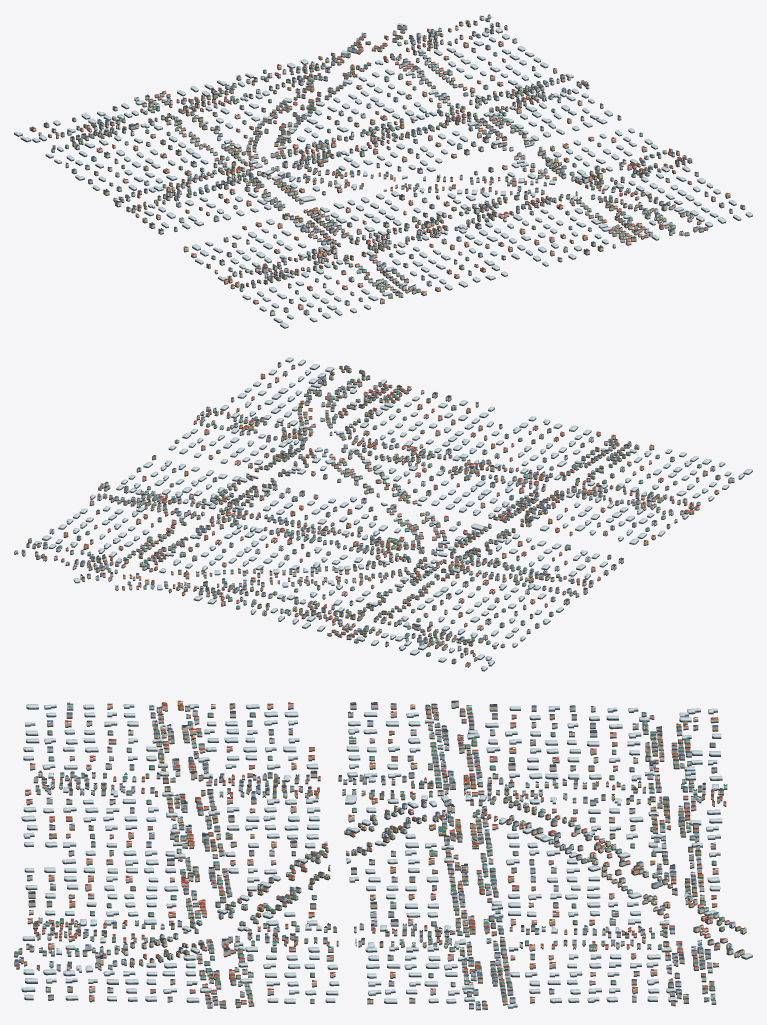
The model's file is osm_buildings_T_E03_N02.glb.
The picture shows the model from 3 angles, top to bottom: view 1: azimuth 30°, elevation 25°; view 2: azimuth 150°, elevation 25°; view 3: azimuth 270°, elevation 25°; orthographic projection. The views are drawn at different scales.
Parts seen in each view (by area): view 1: OSM_T_E03_N02_foundation, OSM_T_E03_N02_greenhouse_blend, OSM_T_E03_N02_wall_french_ochre, OSM_T_E03_N02_wall_cream_stucco, OSM_T_E03_N02_wall_warm_white, OSM_T_E03_N02_wall_pastel_sand, OSM_T_E03_N02_roof_terracotta, OSM_T_E03_N02_roof_mansard_slate, OSM_T_E03_N02_roof_alpine_blue, OSM_T_E03_N02_roof_mint_metal; view 2: OSM_T_E03_N02_foundation, OSM_T_E03_N02_greenhouse_blend, OSM_T_E03_N02_wall_french_ochre, OSM_T_E03_N02_wall_cream_stucco, OSM_T_E03_N02_wall_warm_white, OSM_T_E03_N02_wall_pastel_sand, OSM_T_E03_N02_roof_terracotta, OSM_T_E03_N02_roof_mansard_slate, OSM_T_E03_N02_roof_alpine_blue, OSM_T_E03_N02_roof_mint_metal; view 3: OSM_T_E03_N02_foundation, OSM_T_E03_N02_greenhouse_blend, OSM_T_E03_N02_wall_french_ochre, OSM_T_E03_N02_wall_cream_stucco, OSM_T_E03_N02_wall_warm_white, OSM_T_E03_N02_wall_pastel_sand, OSM_T_E03_N02_roof_terracotta, OSM_T_E03_N02_roof_mansard_slate, OSM_T_E03_N02_roof_alpine_blue, OSM_T_E03_N02_roof_mint_metal, OSM_T_E03_N02_glass_blend_85.
Part boxes in pixels (x1=…): OSM_T_E03_N02_foundation: x1=14, y1=17, x2=752, y2=328; OSM_T_E03_N02_greenhouse_blend: x1=14, y1=23, x2=752, y2=327; OSM_T_E03_N02_wall_french_ochre: x1=43, y1=21, x2=730, y2=311; OSM_T_E03_N02_wall_cream_stucco: x1=29, y1=15, x2=732, y2=309; OSM_T_E03_N02_wall_warm_white: x1=55, y1=16, x2=708, y2=315; OSM_T_E03_N02_wall_pastel_sand: x1=51, y1=18, x2=745, y2=314; OSM_T_E03_N02_roof_terracotta: x1=30, y1=22, x2=729, y2=306; OSM_T_E03_N02_roof_mansard_slate: x1=52, y1=20, x2=744, y2=300; OSM_T_E03_N02_roof_alpine_blue: x1=44, y1=15, x2=723, y2=311; OSM_T_E03_N02_roof_mint_metal: x1=51, y1=14, x2=688, y2=312; OSM_T_E03_N02_foundation: x1=14, y1=359, x2=752, y2=671; OSM_T_E03_N02_greenhouse_blend: x1=33, y1=357, x2=752, y2=670; OSM_T_E03_N02_wall_french_ochre: x1=28, y1=366, x2=720, y2=663; OSM_T_E03_N02_wall_cream_stucco: x1=14, y1=365, x2=719, y2=666; OSM_T_E03_N02_wall_warm_white: x1=22, y1=369, x2=734, y2=654; OSM_T_E03_N02_wall_pastel_sand: x1=21, y1=363, x2=715, y2=657; OSM_T_E03_N02_roof_terracotta: x1=41, y1=365, x2=718, y2=664; OSM_T_E03_N02_roof_mansard_slate: x1=27, y1=362, x2=698, y2=654; OSM_T_E03_N02_roof_alpine_blue: x1=22, y1=365, x2=719, y2=660; OSM_T_E03_N02_roof_mint_metal: x1=14, y1=369, x2=734, y2=654; OSM_T_E03_N02_foundation: x1=14, y1=705, x2=752, y2=1010; OSM_T_E03_N02_greenhouse_blend: x1=21, y1=704, x2=752, y2=1007; OSM_T_E03_N02_wall_french_ochre: x1=16, y1=701, x2=744, y2=1006; OSM_T_E03_N02_wall_cream_stucco: x1=25, y1=704, x2=746, y2=1008; OSM_T_E03_N02_wall_warm_white: x1=24, y1=701, x2=739, y2=1009; OSM_T_E03_N02_wall_pastel_sand: x1=14, y1=707, x2=724, y2=1007; OSM_T_E03_N02_roof_terracotta: x1=16, y1=700, x2=740, y2=1005; OSM_T_E03_N02_roof_mansard_slate: x1=18, y1=700, x2=744, y2=1004; OSM_T_E03_N02_roof_alpine_blue: x1=14, y1=703, x2=745, y2=1005; OSM_T_E03_N02_roof_mint_metal: x1=14, y1=702, x2=727, y2=1004; OSM_T_E03_N02_glass_blend_85: x1=39, y1=707, x2=722, y2=1008.
Size of the model in its own units: 1903 by 34.57 by 1983.
